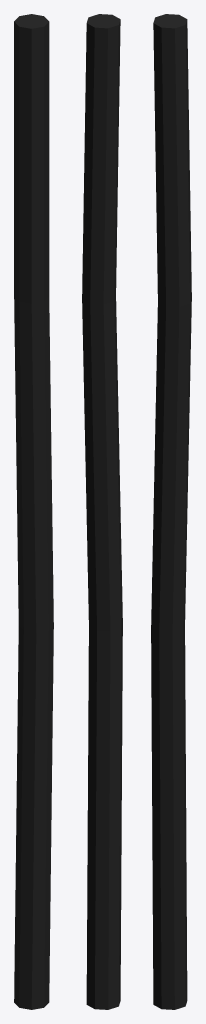
File: Part_Fuse_Medium_Straight.fbx
The picture shows the model from 3 angles, left to right: view 1: azimuth 90°, elevation 25°; view 2: azimuth 150°, elevation 25°; view 3: azimuth 330°, elevation 25°; orthographic projection.
Parts seen in each view (by area): view 1: Part_Fuse_Medium_Straight_Body; view 2: Part_Fuse_Medium_Straight_Body; view 3: Part_Fuse_Medium_Straight_Body.
Part boxes in pixels (x1=…): Part_Fuse_Medium_Straight_Body: x1=14, y1=14, x2=53, y2=1009; Part_Fuse_Medium_Straight_Body: x1=82, y1=14, x2=122, y2=1009; Part_Fuse_Medium_Straight_Body: x1=151, y1=14, x2=191, y2=1009.
Bounding box in the file's own units: 0.0023 × 0.0616 × 0.00226.
